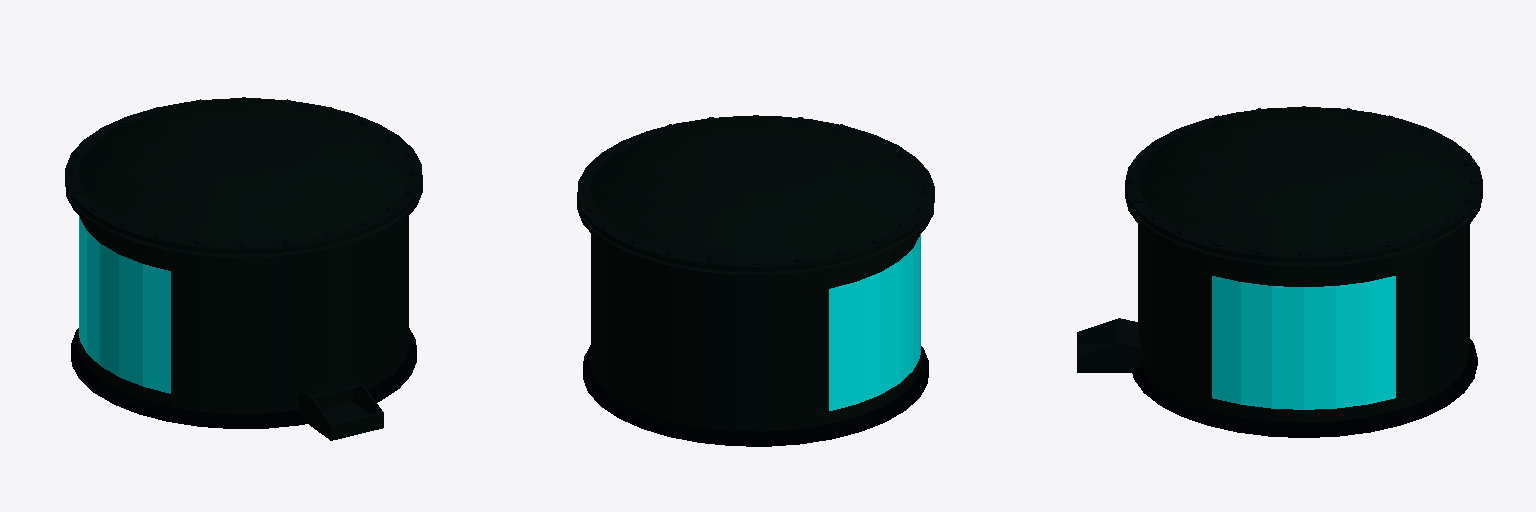
Rendered from WaterTank.obj.
The picture shows the model from 3 angles: view 1: azimuth 30°, elevation 25°; view 2: azimuth 150°, elevation 25°; view 3: azimuth 270°, elevation 25°; orthographic projection.
Parts seen in each view (by area): view 1: WaterTank pCylinder55, pCylinder29 WaterTank, WaterTank pCylinder30; view 2: WaterTank pCylinder55, pCylinder29 WaterTank, WaterTank pCylinder30; view 3: WaterTank pCylinder55, pCylinder29 WaterTank, WaterTank pCylinder30.
Part boxes in pixels (x1,y1,x2,y2): WaterTank pCylinder55: (65,97,422,440); pCylinder29 WaterTank: (79,216,170,393); WaterTank pCylinder30: (71,328,416,428); WaterTank pCylinder55: (577,115,934,431); pCylinder29 WaterTank: (829,234,920,410); WaterTank pCylinder30: (583,345,928,446); WaterTank pCylinder55: (1077,106,1482,422); pCylinder29 WaterTank: (1212,276,1395,409); WaterTank pCylinder30: (1132,339,1477,437).
Size of the model in its own units: 15.74 by 10.54 by 17.86.